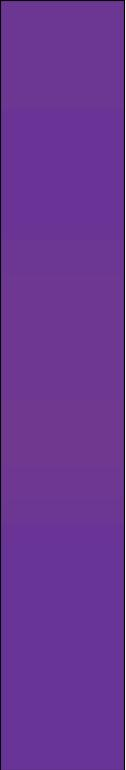safe: (16, 14, 109, 761)
